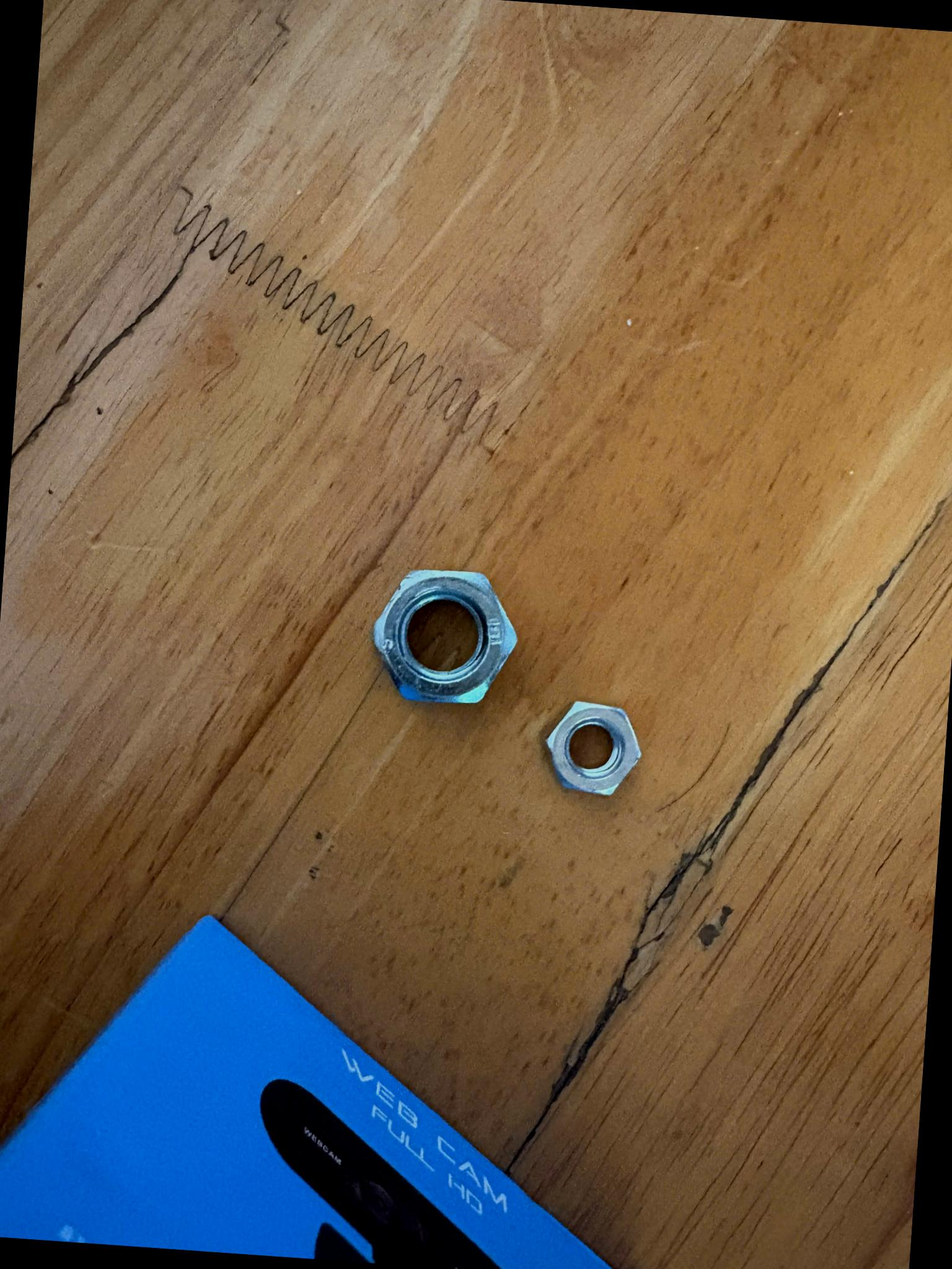nut: (352, 548, 529, 741), (539, 695, 656, 810)
